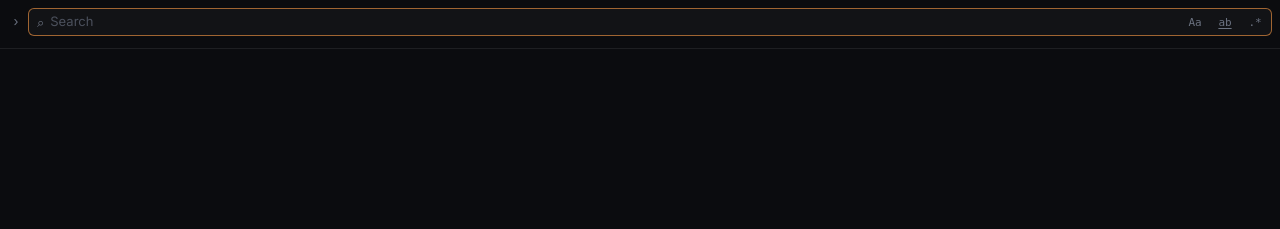
Test: SearchPanel › replace: › shows the box; Replace all asks first, replaces in the found files, says what it did, searches again
Step 1. Click the button named "Toggle replace" → [16, 22], box [8,8,24,36]
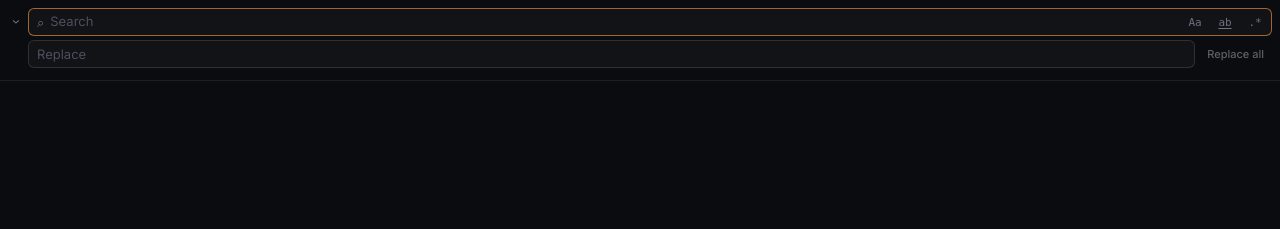
Step 2. Type "open" into the field named "Search text" → [614, 22], box [50,12,1177,32]
Wait 300 ms
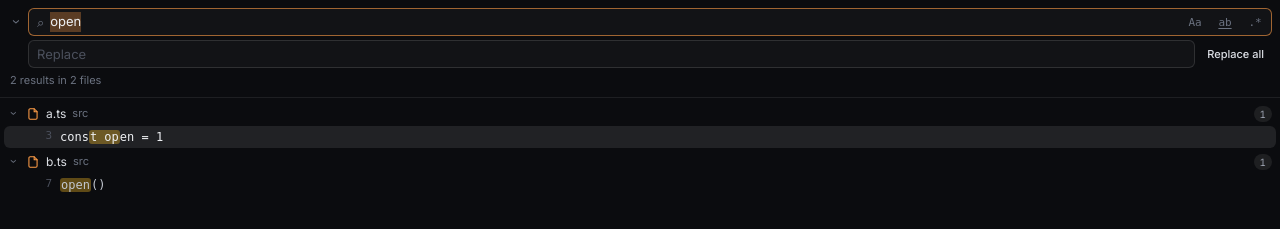
Step 3. Type "shut" into the field named "Replace with" → [612, 54], box [28,40,1195,68]
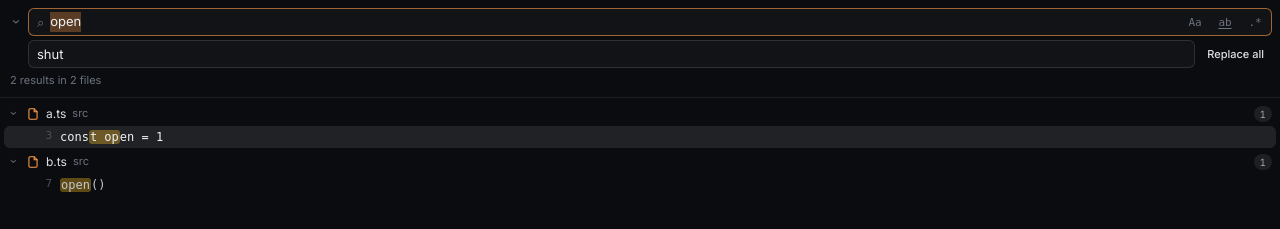
Step 4. Click the button "Replace all" → [1236, 54], box [1199,40,1272,68]
Wait 600 ms
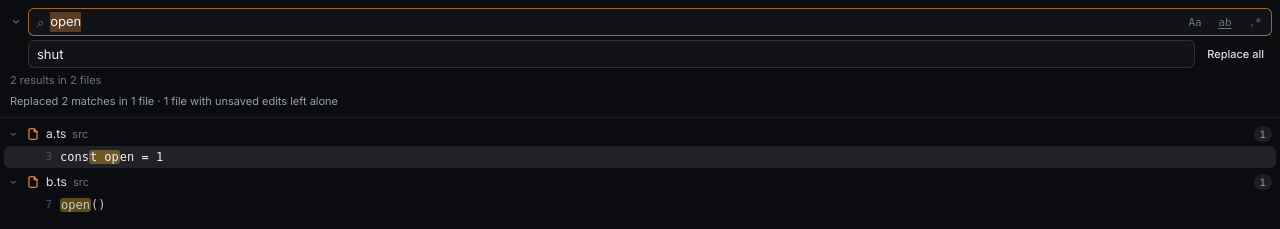
Expected: the message reads "Replaced 2 matches in 1 file · 1 file with unsaved edits left alone", [10,94,338,108]
